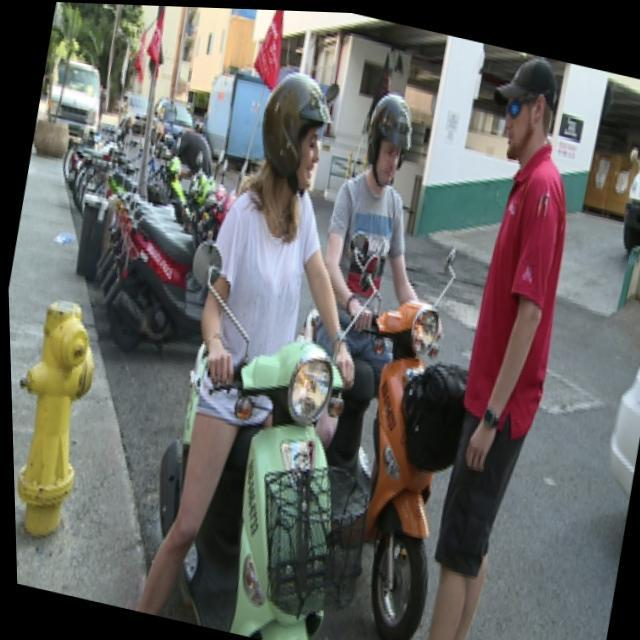Helmet: (255, 66, 340, 203), (359, 79, 423, 193)
